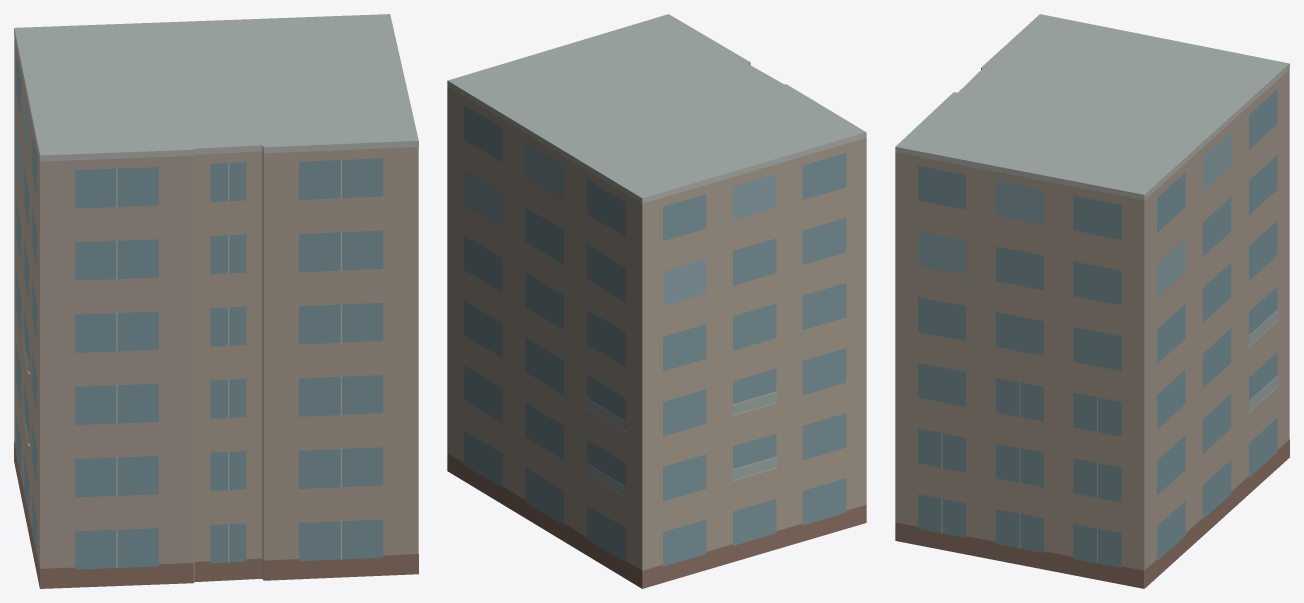
File: survey-upis-32626140.glb
3 renders of one model, left to right at view 1: azimuth 30°, elevation 25°; view 2: azimuth 150°, elevation 25°; view 3: azimuth 270°, elevation 25°, orthographic. The views are drawn at different scales.
Parts seen in each view (by area): view 1: survey-upis-32626140.tmp; view 2: survey-upis-32626140.tmp; view 3: survey-upis-32626140.tmp.
Boxes of the visible parts, bbox=[...] form: survey-upis-32626140.tmp: bbox=[14, 14, 418, 588]; survey-upis-32626140.tmp: bbox=[447, 14, 866, 588]; survey-upis-32626140.tmp: bbox=[895, 14, 1289, 588].
Size of the model in its own units: 17.09 by 17.35 by 15.75.
